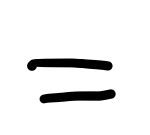eqv: (26, 55, 119, 105)
